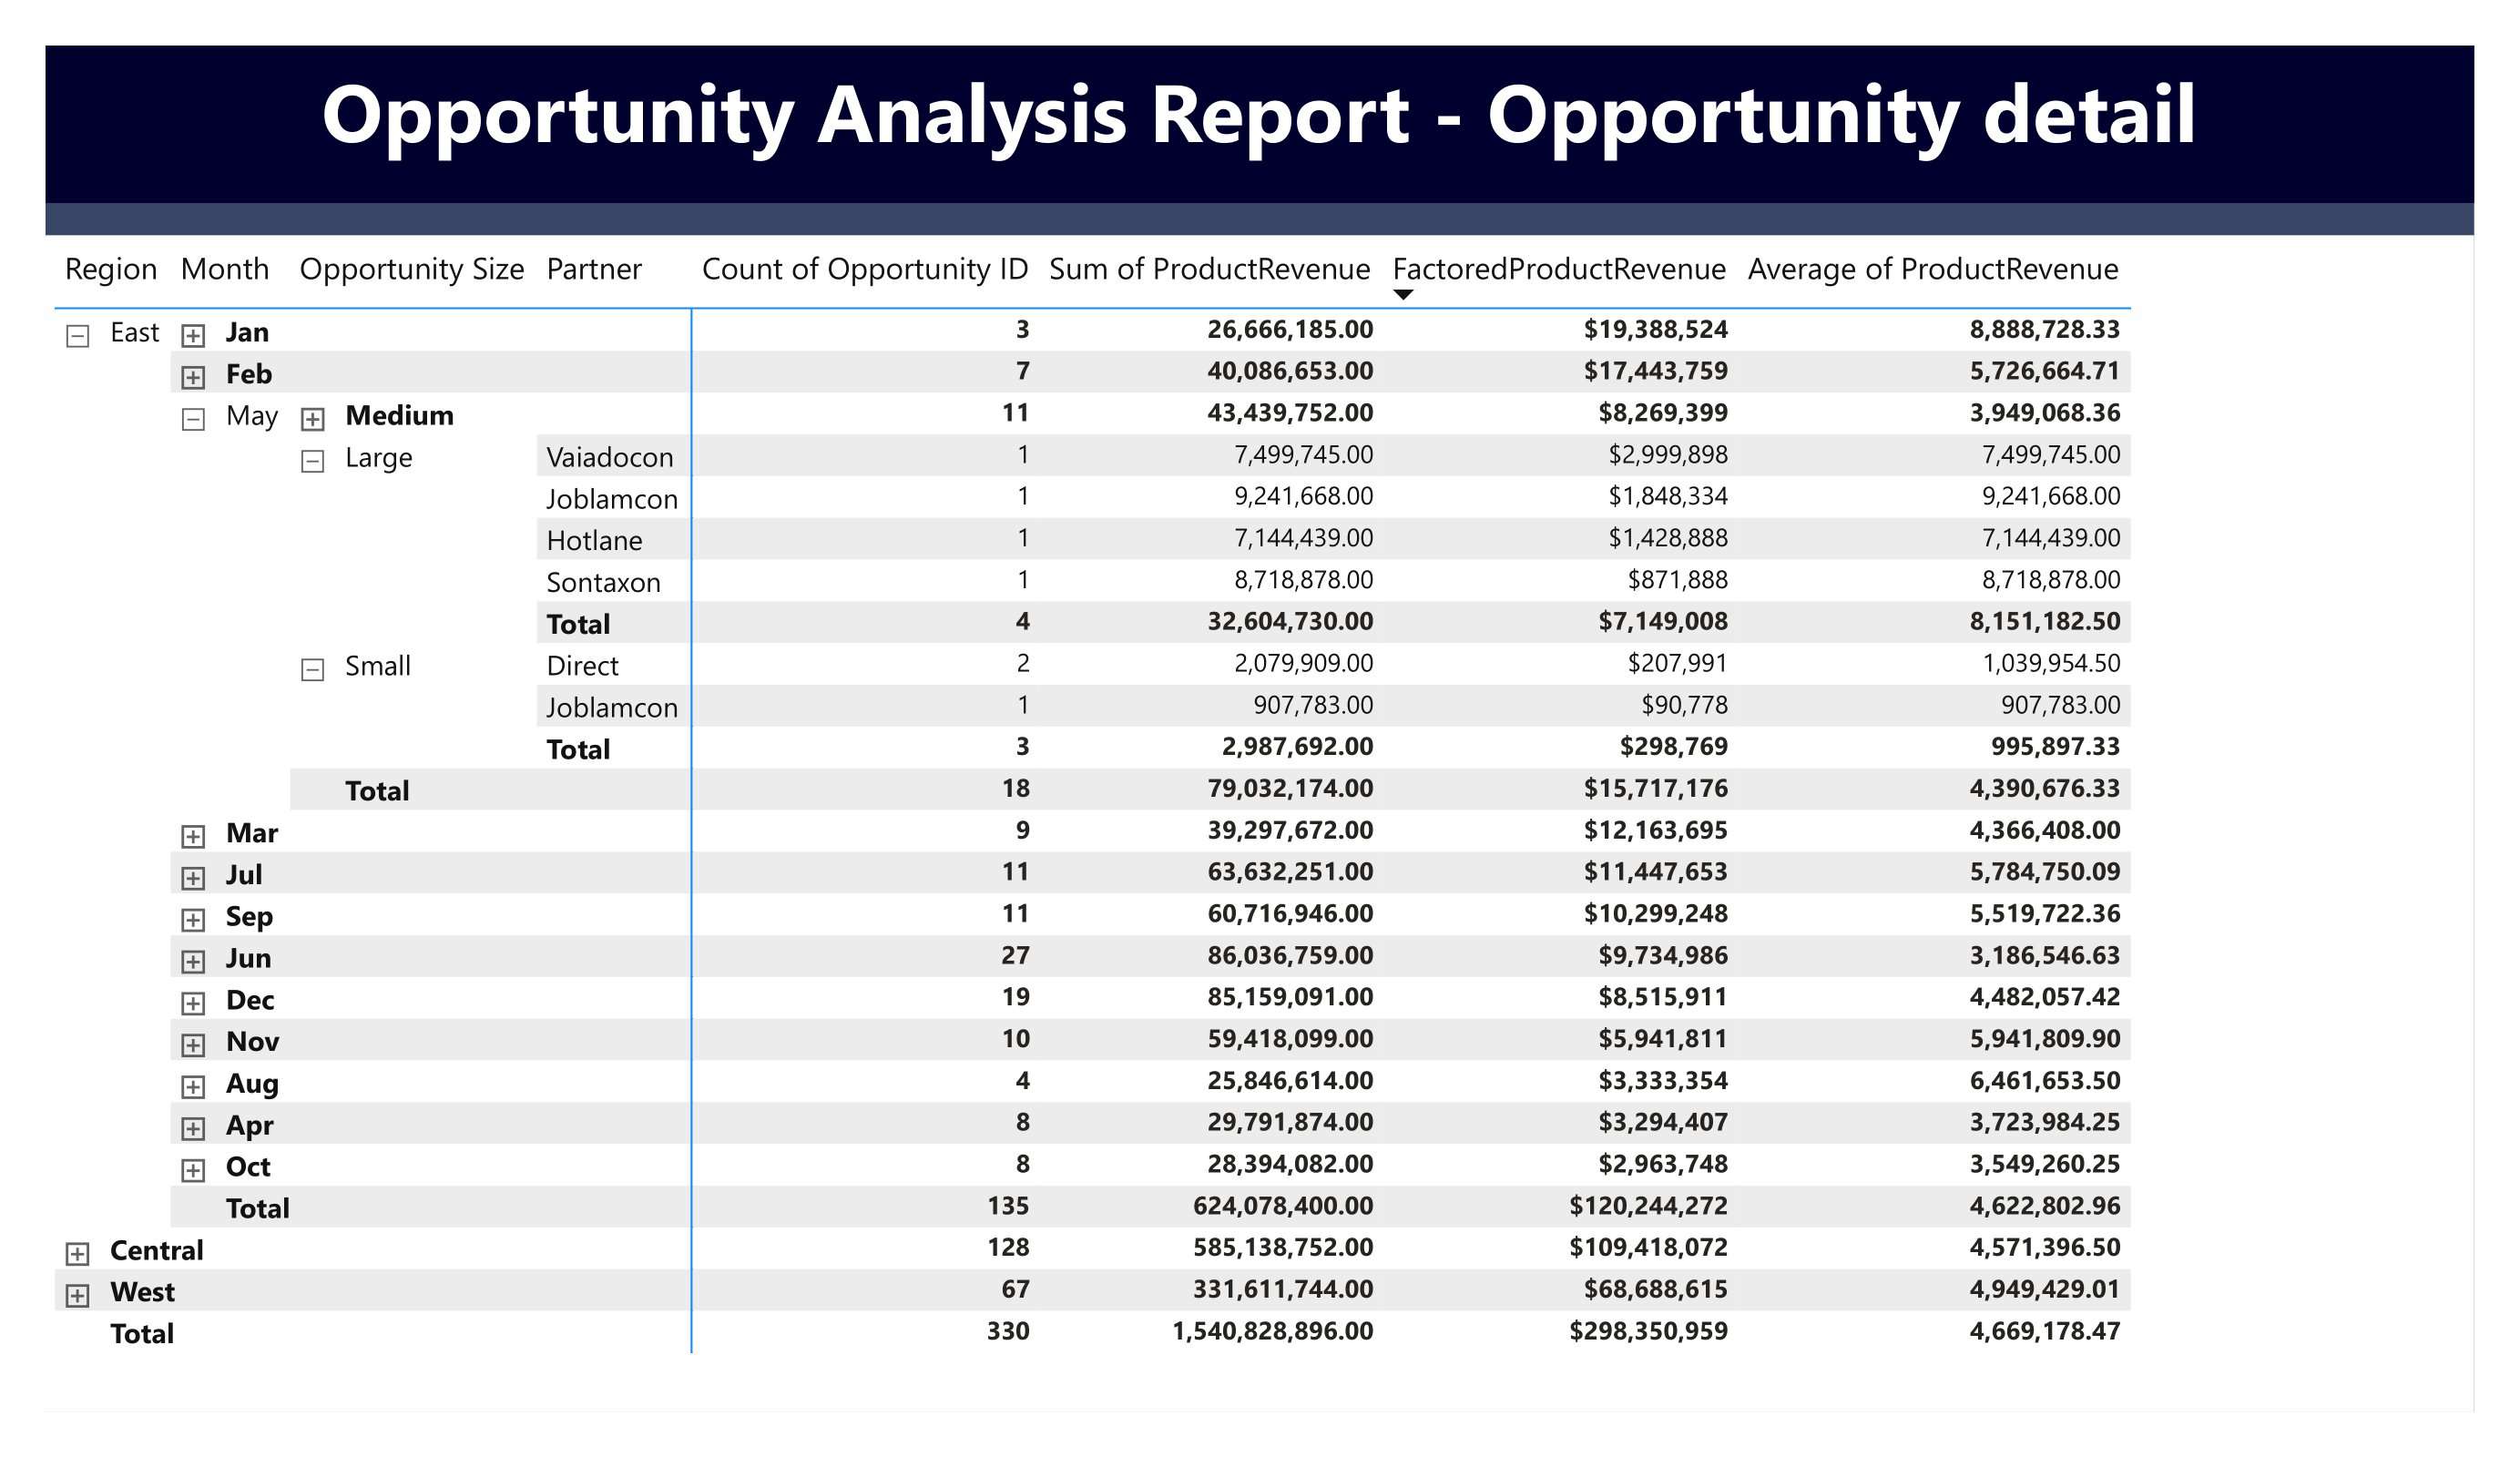

The page's visual inventory and layout, read from the dashboard file:
{"tool":"powerbi","page":{"name":"Detail","canvas":[1280,720],"ordinal":1},"visuals":[{"type":"textbox","box":[0,0,1280,83.3],"z":0},{"type":"pivotTable","fields":{"Rows":["Account.Region","Fact.Month","Opportunity.Opportunity Size","Partner.Partner"],"Values":["Count(Fact.Opportunity ID)","Sum(Fact.ProductRevenue)","Sum(Fact.FactoredProductRevenue)","Avg(Fact.ProductRevenue)"]},"box":[0,100,1280,620],"z":1000}]}

Visuals, with their boxes in screenshot pixels (x1, y1, x2, y2):
textbox: BBox(46, 46, 2474, 204)
pivotTable - Account.Region x Fact.Month: BBox(46, 235, 2474, 1411)
